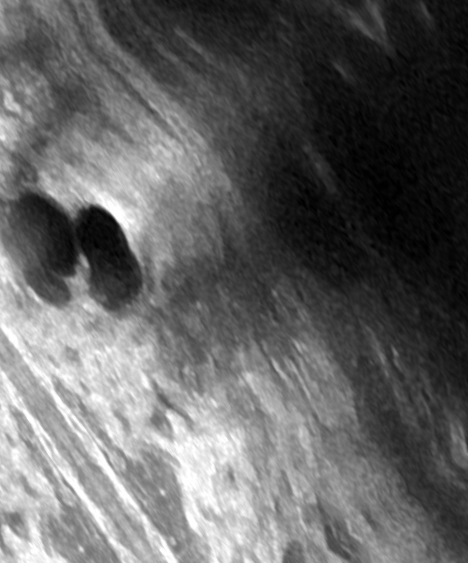Benign: (4, 189, 142, 310)
